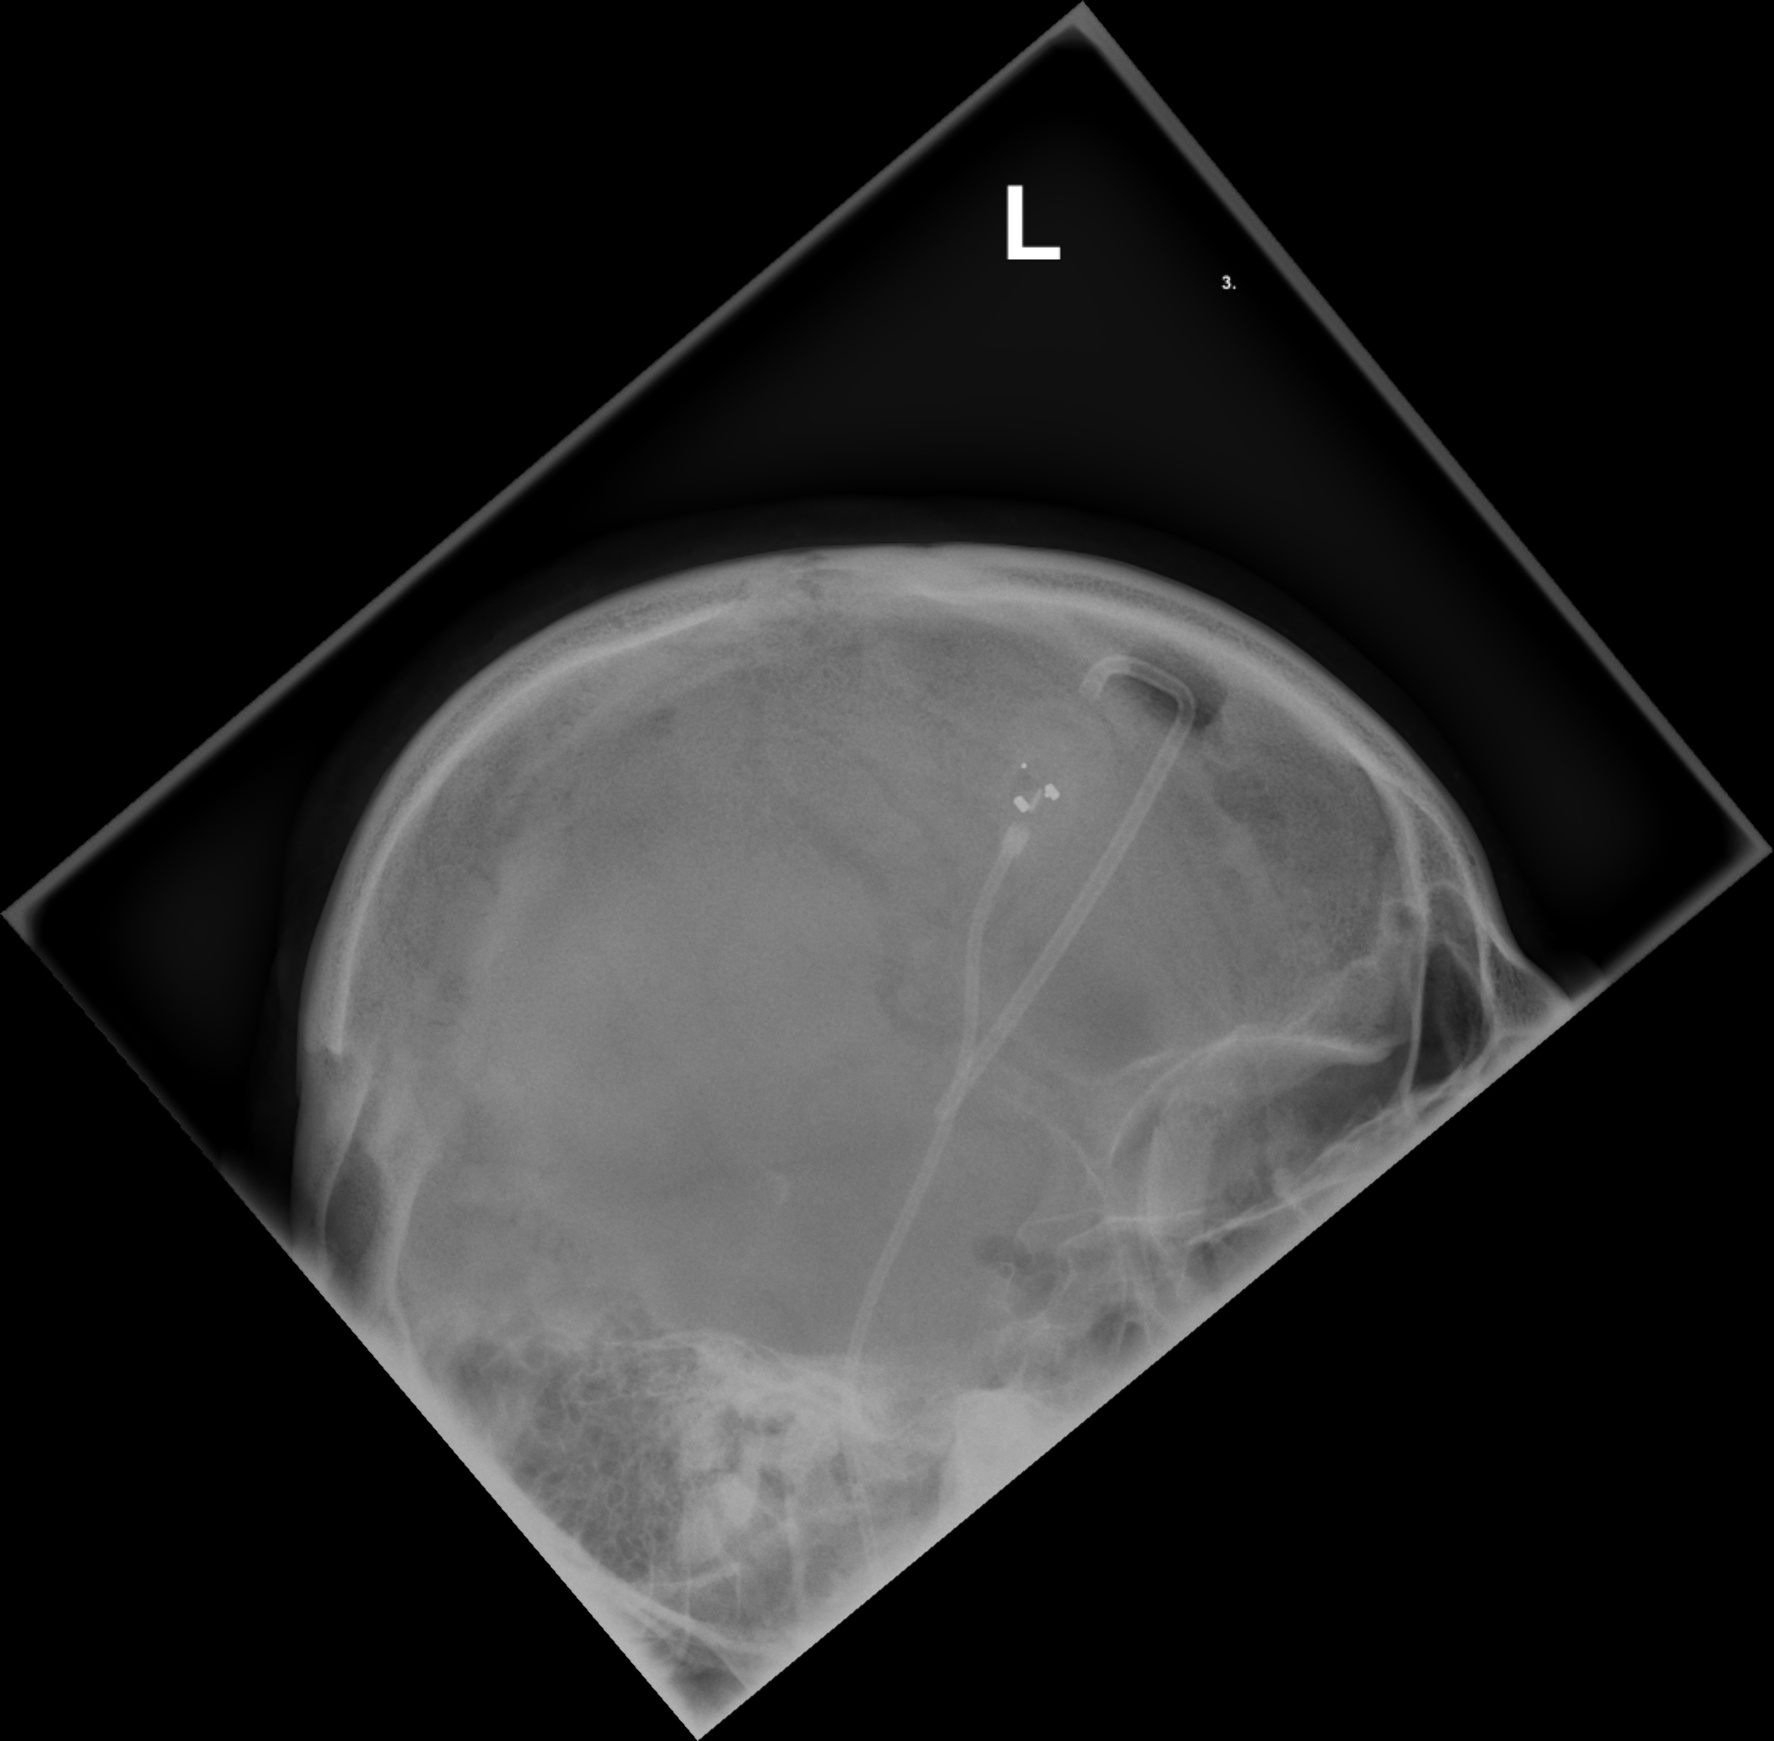Codman Certas: (993, 738, 1079, 848)
